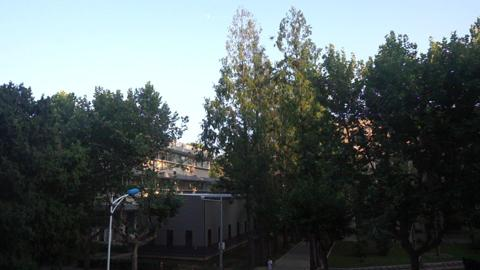UAV: (268, 36, 275, 41)
